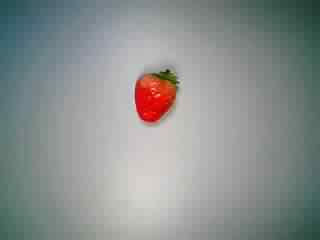strawberry: (120, 66, 193, 133)
